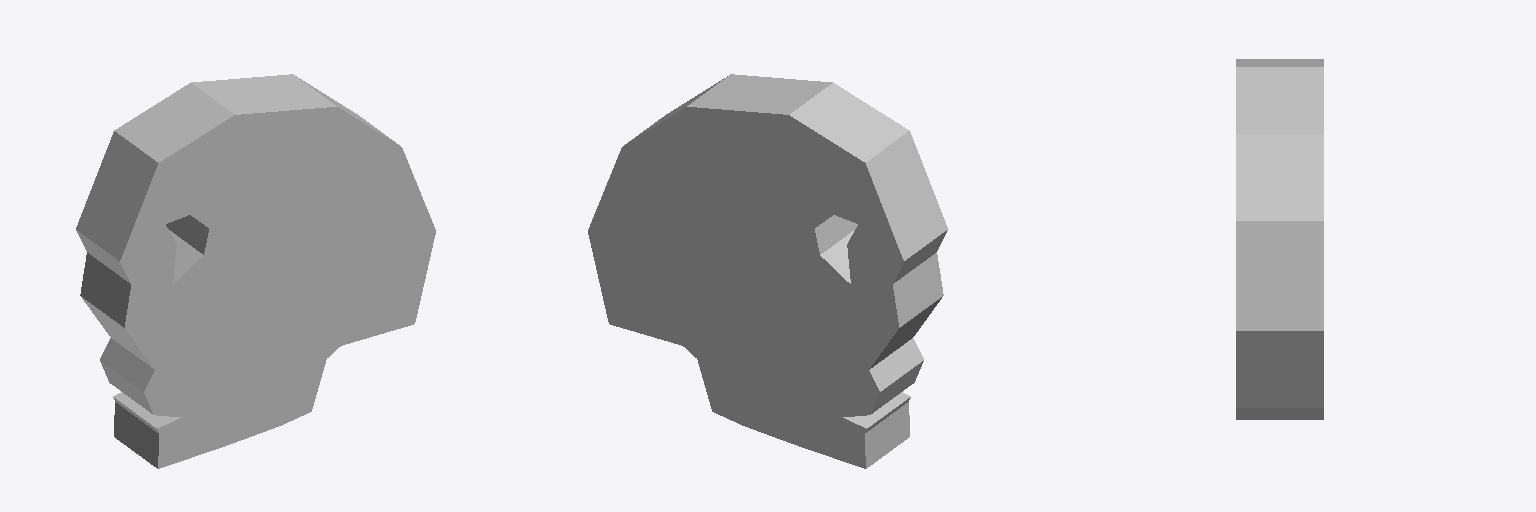
Rendered from roughSkull.obj.
3 renders of one model, left to right at view 1: azimuth 30°, elevation 25°; view 2: azimuth 150°, elevation 25°; view 3: azimuth 270°, elevation 25°, orthographic.
Parts seen in each view (by area): view 1: Cube; view 2: Cube; view 3: Cube.
Boxes of the visible parts, x1,y1,x2,y2 form: Cube: [76, 74, 435, 468]; Cube: [588, 74, 947, 468]; Cube: [1236, 59, 1323, 419].
Bounding box in the file's own units: 0.4721 × 0.4785 × 0.1146.